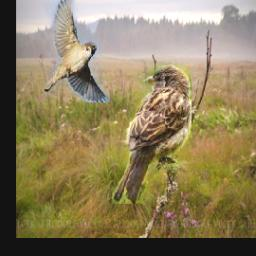Sparrow: (112, 64, 192, 204), (44, 0, 111, 102)
